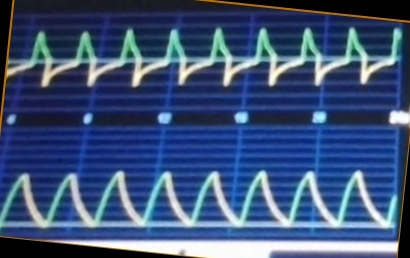Normal Flow: (9, 23, 402, 98)
Normal Volume: (1, 161, 396, 236)
